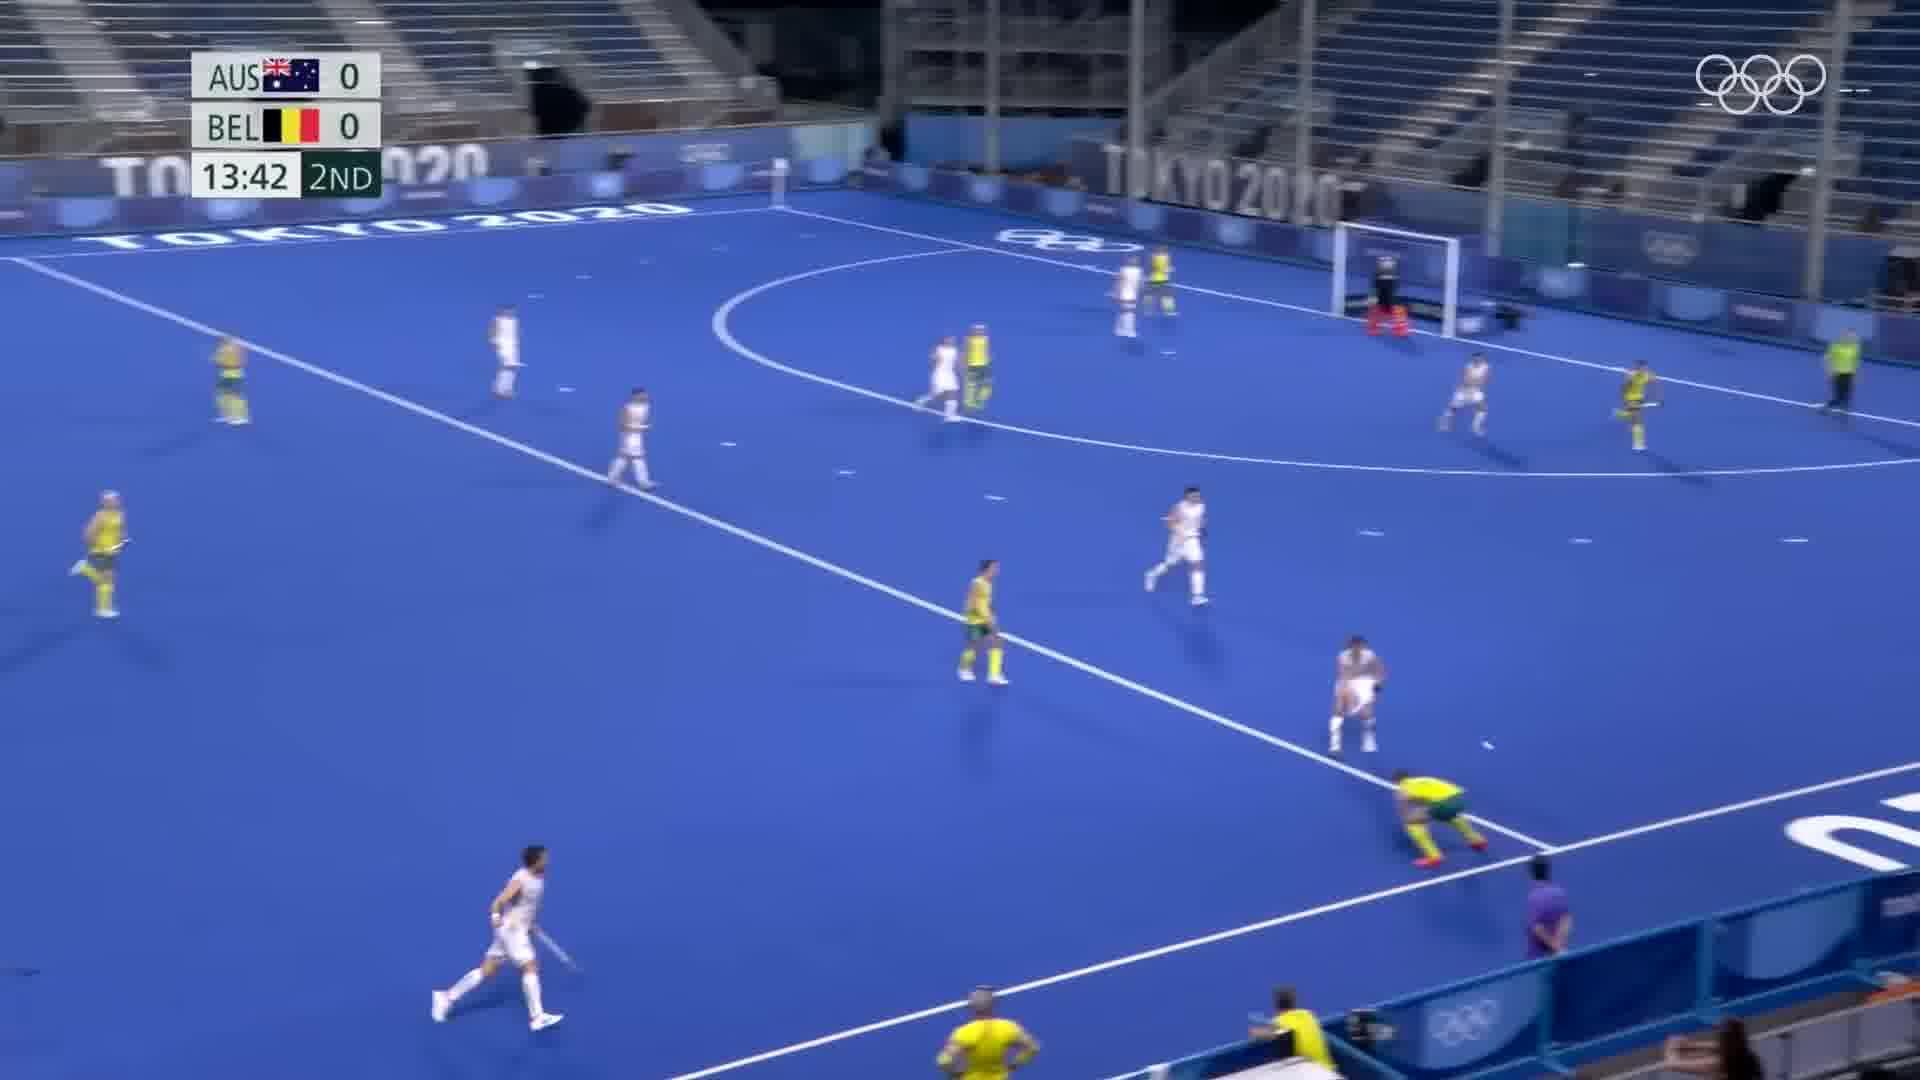ball: (1476, 732, 1505, 760)
